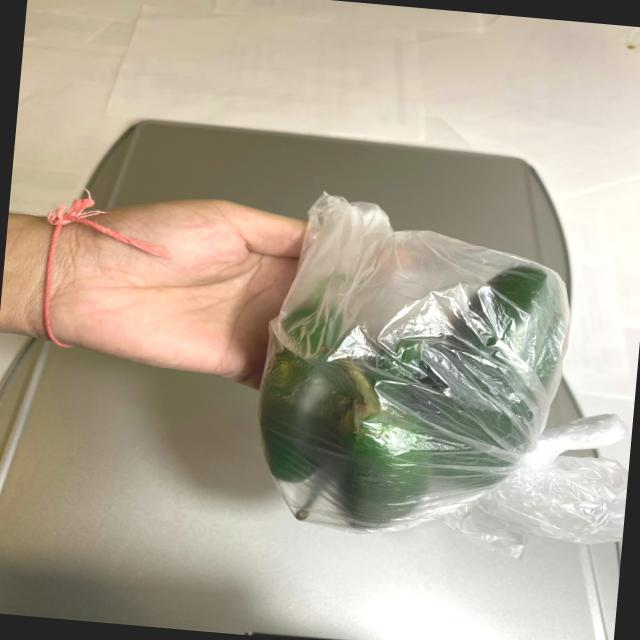chilli: (248, 240, 566, 550)
